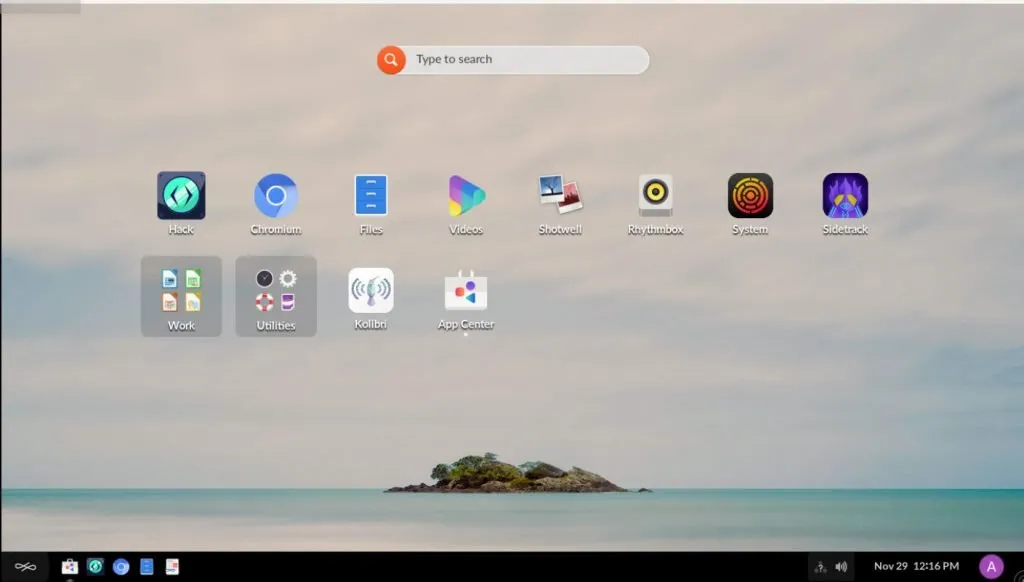search_box: (378, 43, 652, 76)
